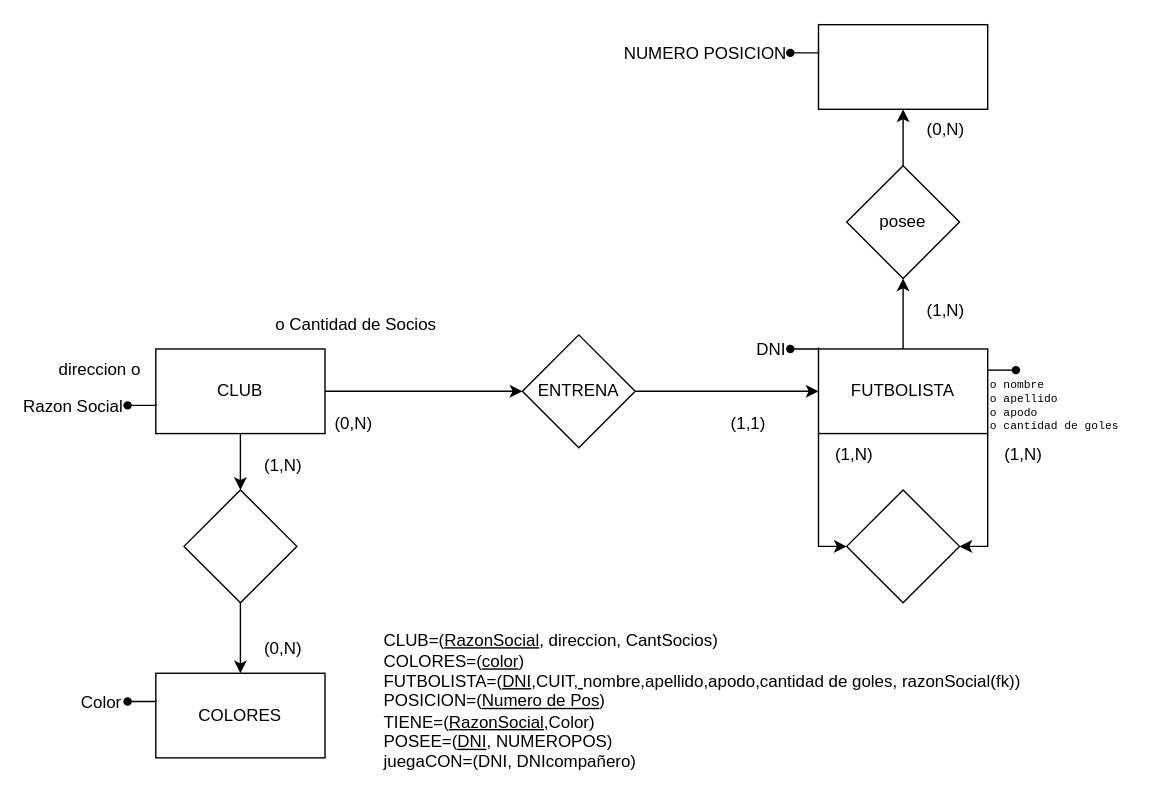
Image size: 1167x804. Some labels were removed from this diagram. The shapes that lost their labels are listed below. From the top down, each one's centre as x and y in pixels, then its label:
(x=902, y=66): POSICION
(x=1015, y=369): CUIT
(x=240, y=546): tiene
(x=902, y=546): juegaCON
